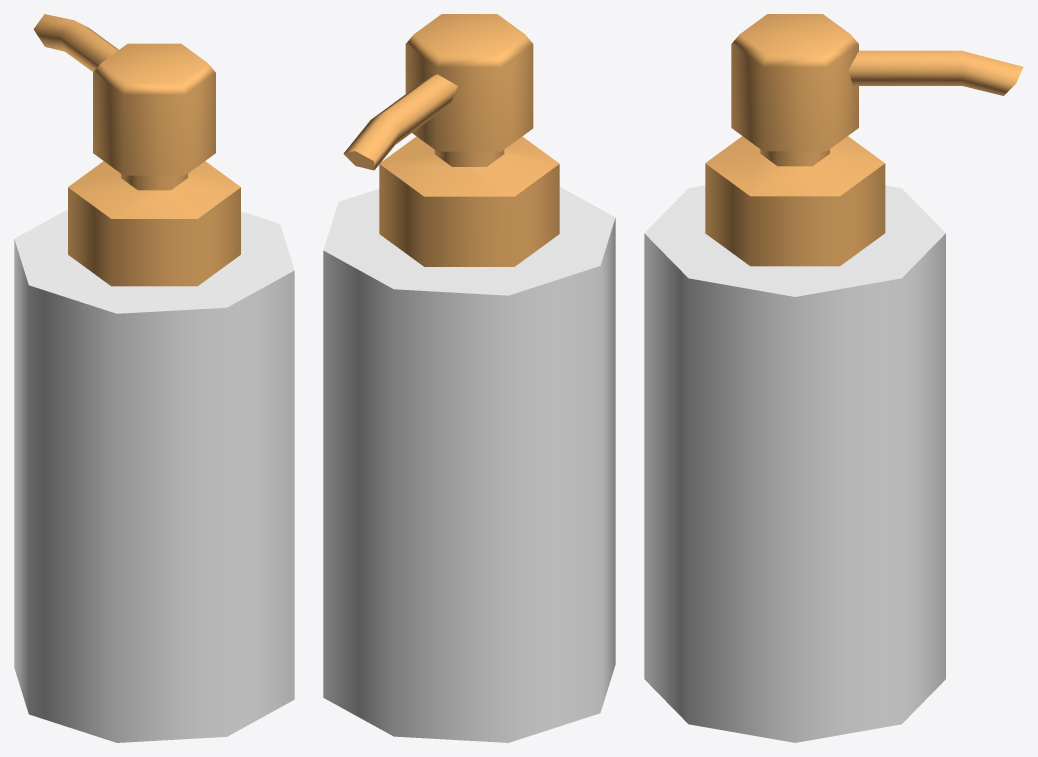
The model's file is SM_Item_Soap_02.obj.
3 views of the same model, side by side, from view 1: azimuth 30°, elevation 25°; view 2: azimuth 150°, elevation 25°; view 3: azimuth 270°, elevation 25° (orthographic). The views are drawn at different scales.
Visible parts, largest first — view 1: SM_Item_Soap_02_Mat_SwatchOverlay_PolygonTown_01_Inst; view 2: SM_Item_Soap_02_Mat_SwatchOverlay_PolygonTown_01_Inst; view 3: SM_Item_Soap_02_Mat_SwatchOverlay_PolygonTown_01_Inst.
Boxes of the visible parts, <box> form: SM_Item_Soap_02_Mat_SwatchOverlay_PolygonTown_01_Inst: <box>14,14,294,742</box>; SM_Item_Soap_02_Mat_SwatchOverlay_PolygonTown_01_Inst: <box>323,14,615,742</box>; SM_Item_Soap_02_Mat_SwatchOverlay_PolygonTown_01_Inst: <box>644,14,1023,742</box>.
Size of the model in its own units: 0.1183 by 0.2791 by 0.1487.
Materials: 1 (1 with a texture image).
